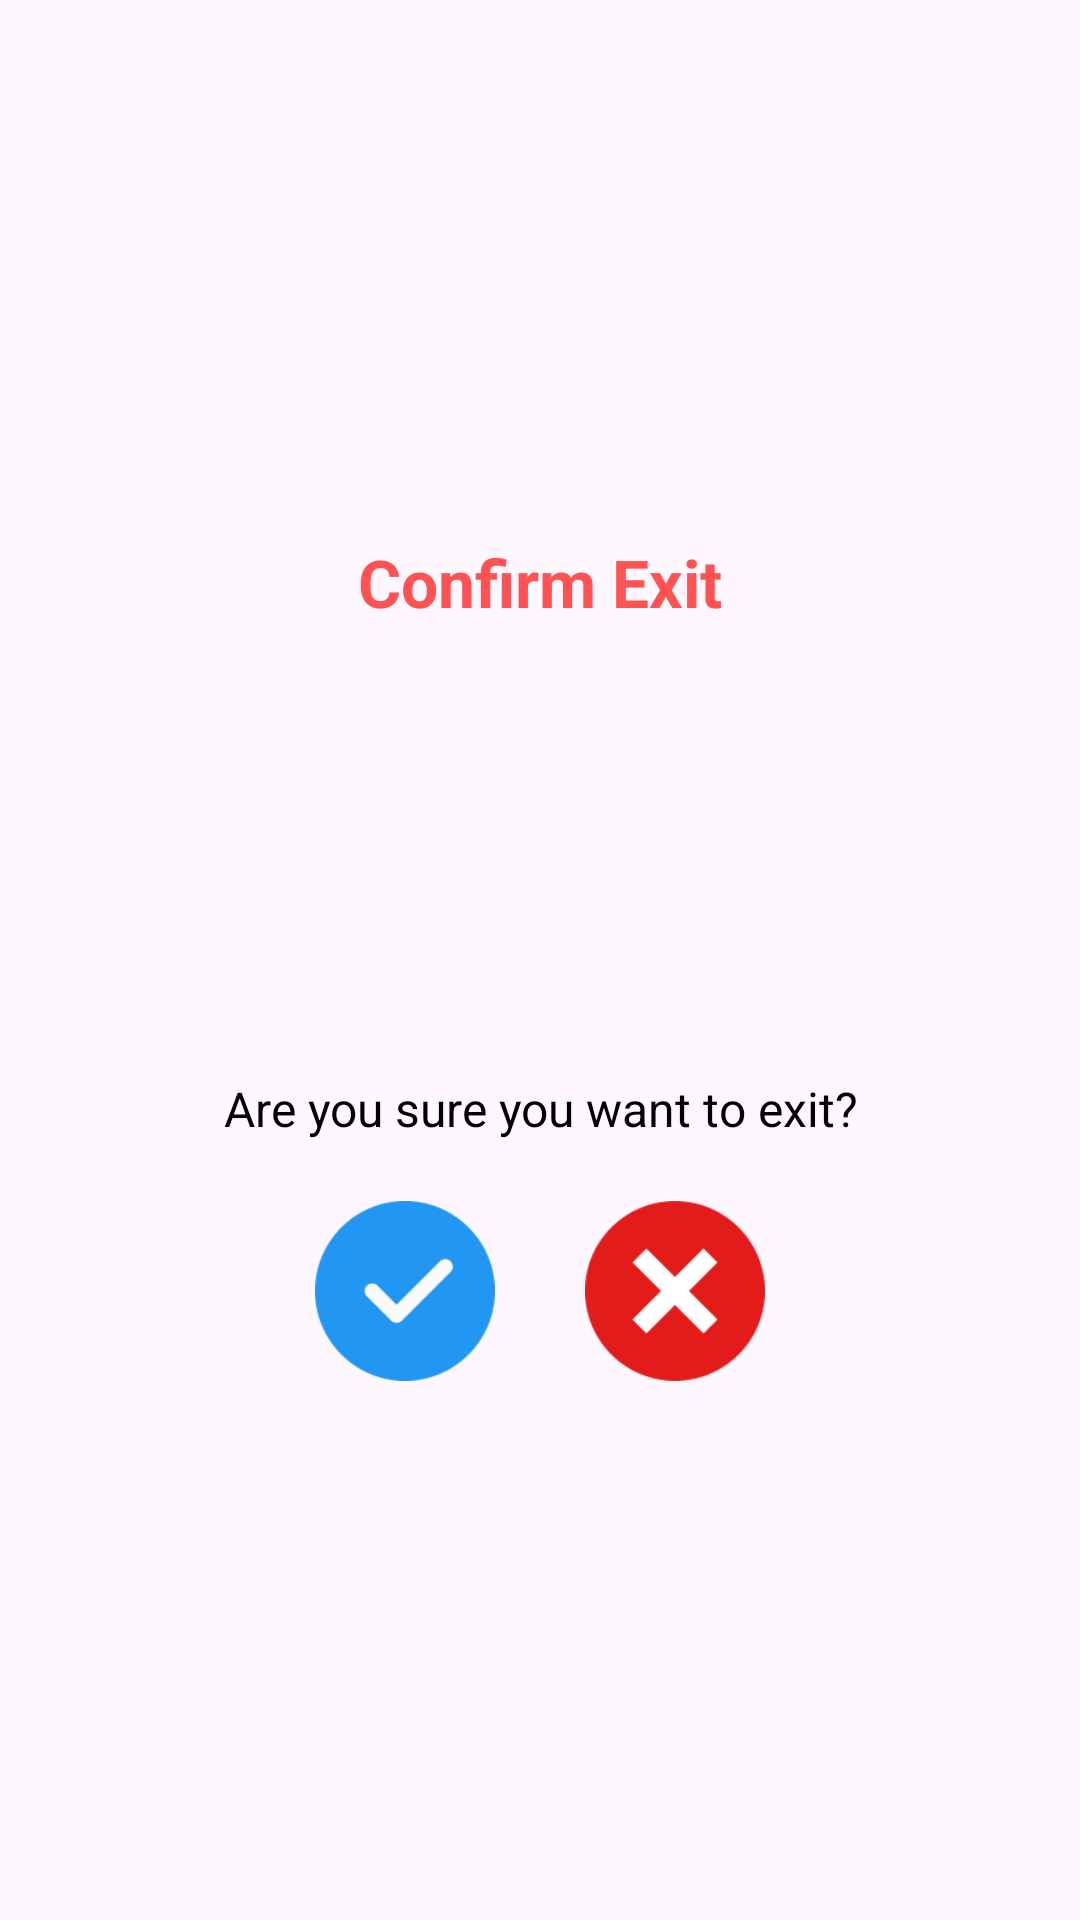

Where icons sit on this 1080×1920 app screen, as bbox(x1, y1, x2, y2):
cancel: bbox(585, 1201, 765, 1381)
yes: bbox(315, 1201, 495, 1381)
